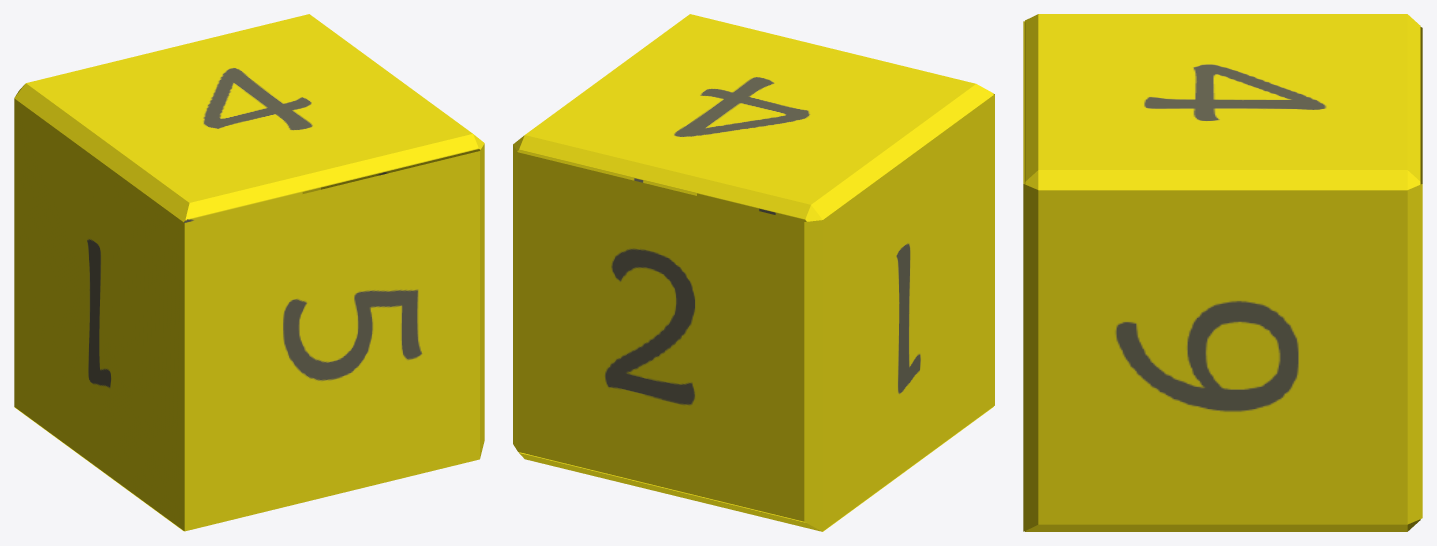
The model's file is yellow_die.fbx.
3 renders of one model, left to right at view 1: azimuth 30°, elevation 25°; view 2: azimuth 150°, elevation 25°; view 3: azimuth 270°, elevation 25°, orthographic. The views are drawn at different scales.
Parts seen in each view (by area): view 1: Cube; view 2: Cube; view 3: Cube.
Part boxes in pixels (<box>): Cube: <box>14,14,484,531</box>; Cube: <box>513,14,994,531</box>; Cube: <box>1023,14,1422,531</box>.
Size of the model in its own units: 200 by 200 by 200.
1 material, 1 textured.
